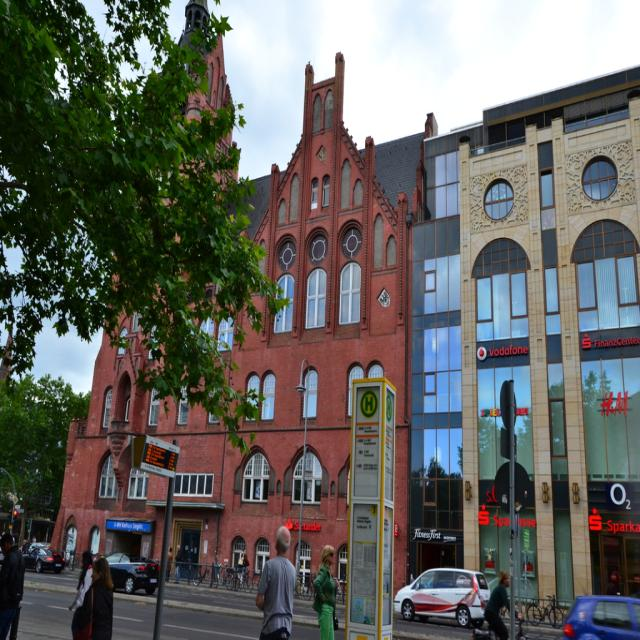car: (396, 572, 497, 633)
